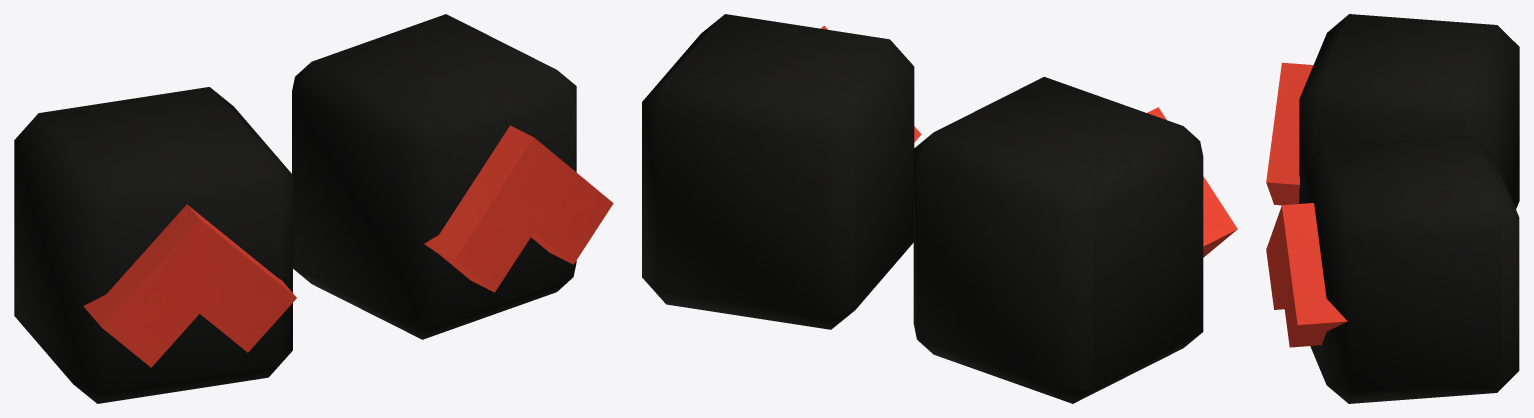
File: eyes_skeleton_happy.fbx
3 renders of one model, left to right at view 1: azimuth 30°, elevation 25°; view 2: azimuth 150°, elevation 25°; view 3: azimuth 270°, elevation 25°, orthographic. The views are drawn at different scales.
Visible parts, largest first — view 1: eyes_skeleton_happy; view 2: eyes_skeleton_happy; view 3: eyes_skeleton_happy.
Boxes of the visible parts, <box> form: eyes_skeleton_happy: <box>14,14,613,403</box>; eyes_skeleton_happy: <box>642,14,1237,403</box>; eyes_skeleton_happy: <box>1266,14,1519,403</box>.
Bounding box in the file's own units: 39.79 × 16.53 × 19.56.
